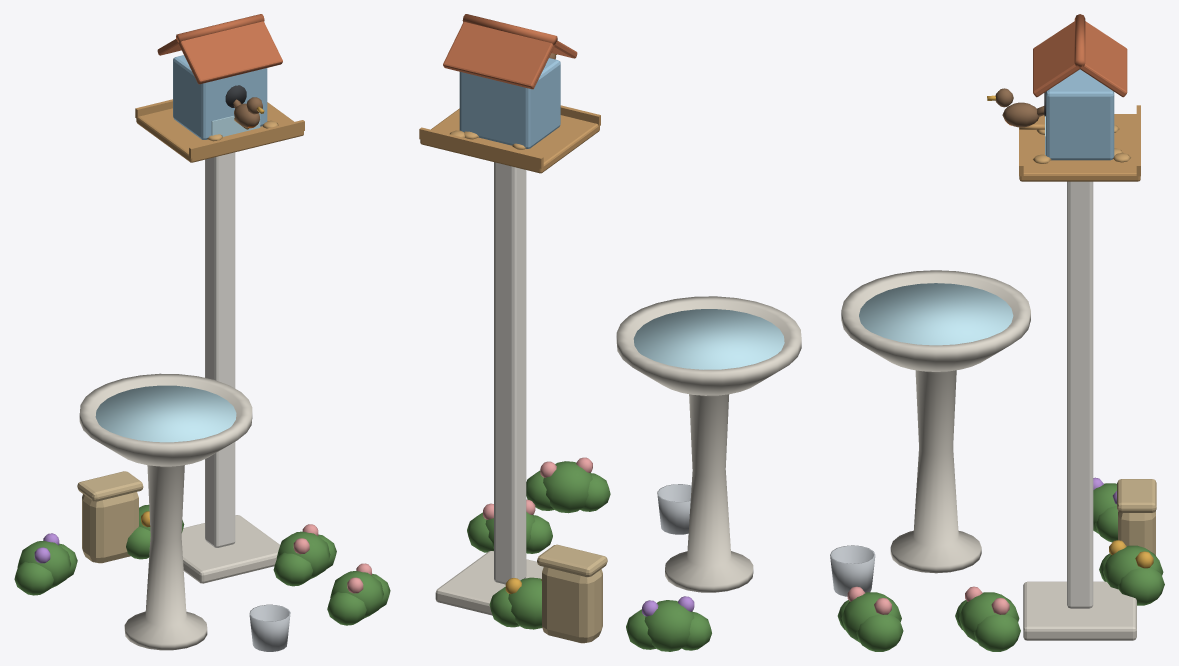
File: songbirdFeeder.glb
The picture shows the model from 3 angles, left to right: view 1: azimuth 30°, elevation 25°; view 2: azimuth 150°, elevation 25°; view 3: azimuth 270°, elevation 25°; orthographic projection. The views are drawn at different scales.
Parts seen in each view (by area): view 1: body, roof; view 2: body, roof; view 3: body, roof.
Part boxes in pixels (left/top/right/bottom): body: left=14, top=55, right=390, bottom=651; roof: left=157, top=14, right=282, bottom=84; body: left=419, top=53, right=801, bottom=651; roof: left=443, top=14, right=577, bottom=89; body: left=830, top=69, right=1164, bottom=651; roof: left=1033, top=14, right=1127, bottom=97.
Bounding box in the file's own units: 0.9009 × 1.7 × 0.884.
